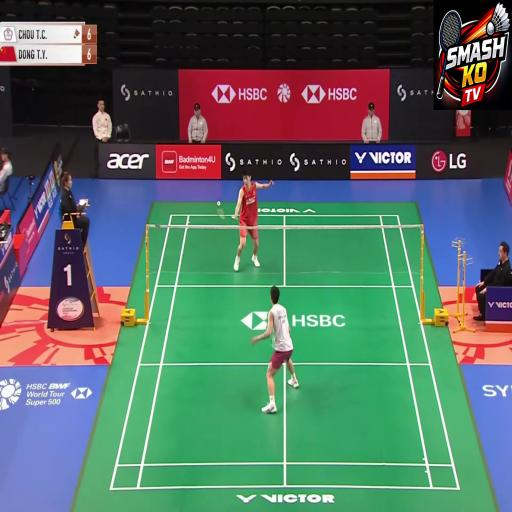player: (260, 281, 305, 424), (231, 138, 269, 300)
